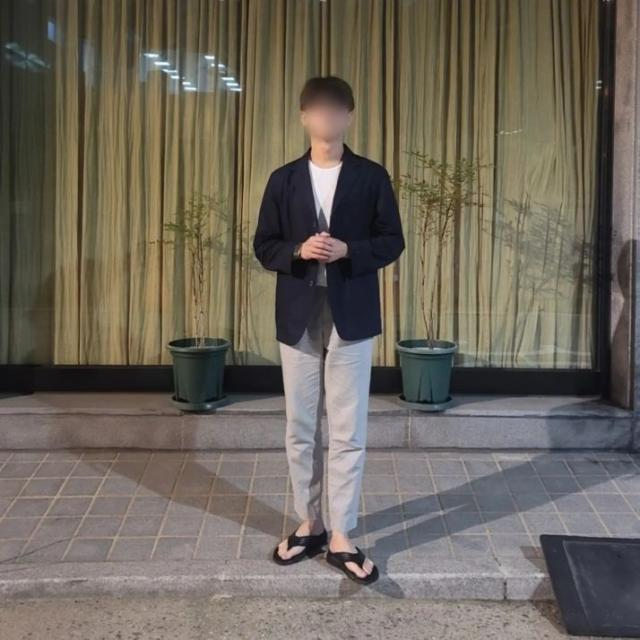blazer: (252, 148, 404, 348)
cottonpants: (286, 291, 379, 538)
